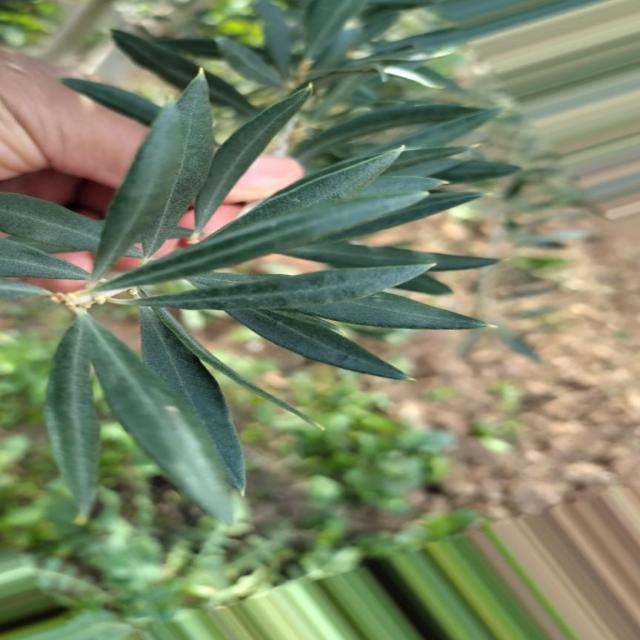Healthy: (181, 83, 313, 245), (141, 309, 245, 494), (130, 263, 435, 312), (233, 310, 408, 380)
